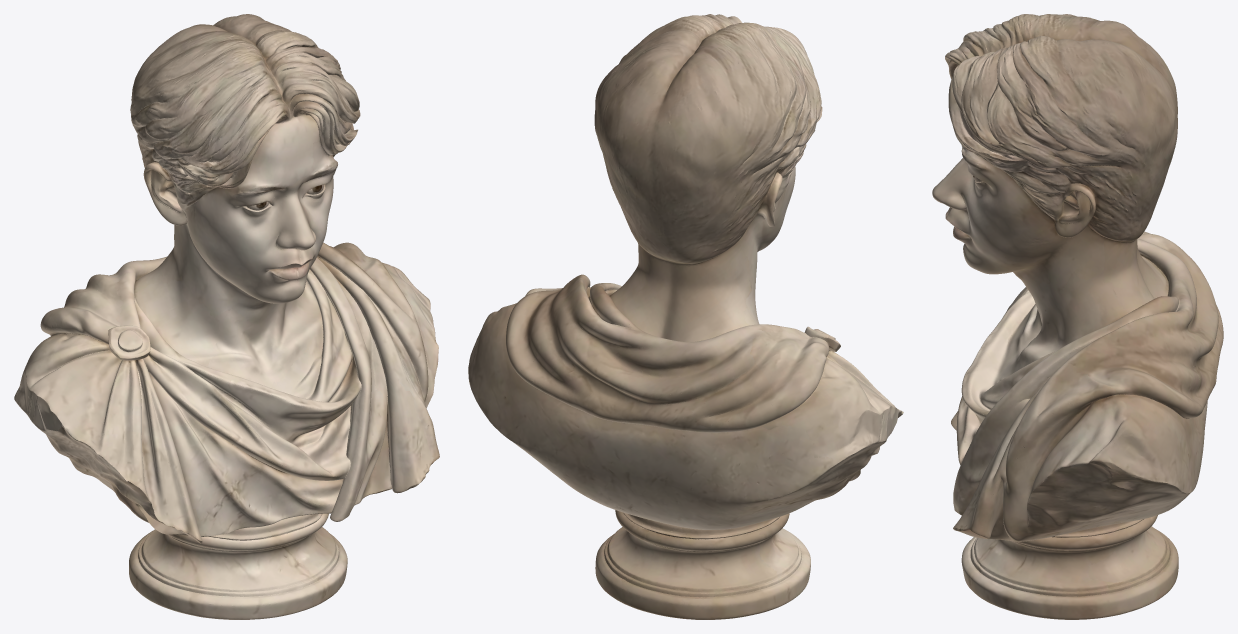
3 renders of one model, left to right at view 1: azimuth 30°, elevation 25°; view 2: azimuth 150°, elevation 25°; view 3: azimuth 270°, elevation 25°, orthographic.
Visible parts, largest first — view 1: model; view 2: model; view 3: model.
Part boxes in pixels (<box>): model: <box>14,14,439,619</box>; model: <box>468,14,903,619</box>; model: <box>932,14,1223,619</box>.
Size of the model in its own units: 1.46 by 1.9 by 0.9148.
1 material, 1 textured.
